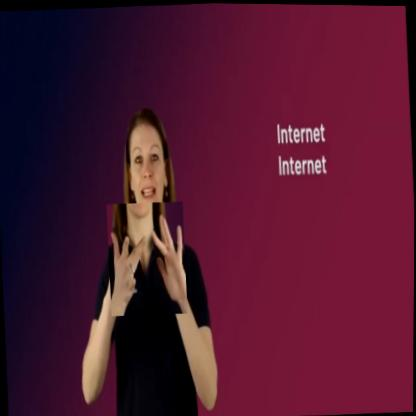Internet: (106, 199, 188, 316)
